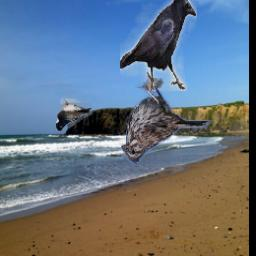Crow: (120, 0, 197, 92)
Sparrow: (121, 79, 212, 166)
Swallow: (55, 99, 92, 131)
